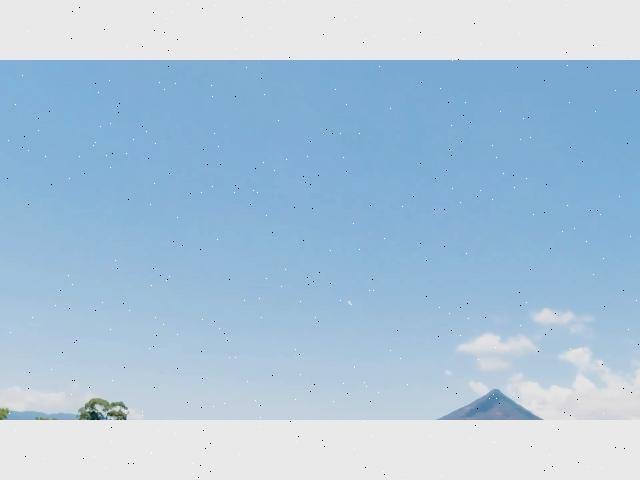Anti-Drone: (336, 292, 366, 313)
